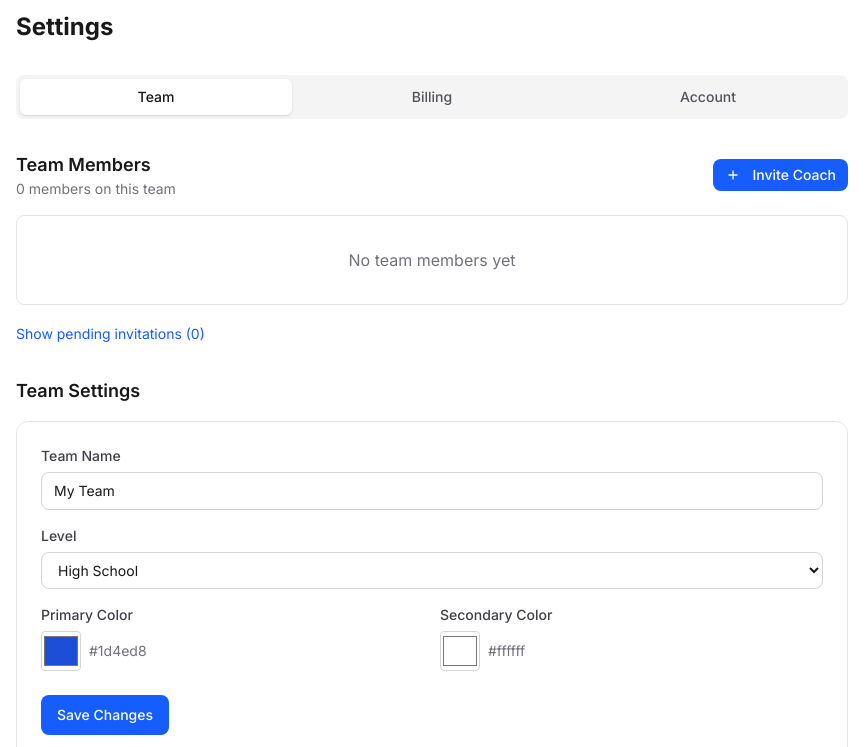
SettingsPage › switches to Account section when clicking Account tab
Click the button "Account": [708, 97] box [572, 79, 844, 115]
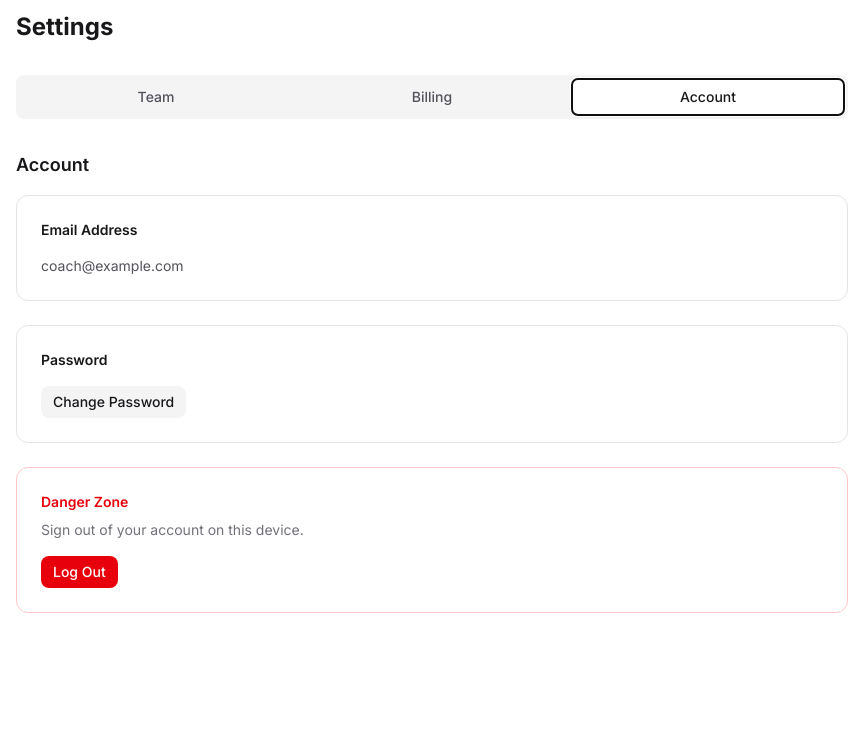
expect the element with test id "account-section" is shown: met, box [16, 151, 848, 613]
